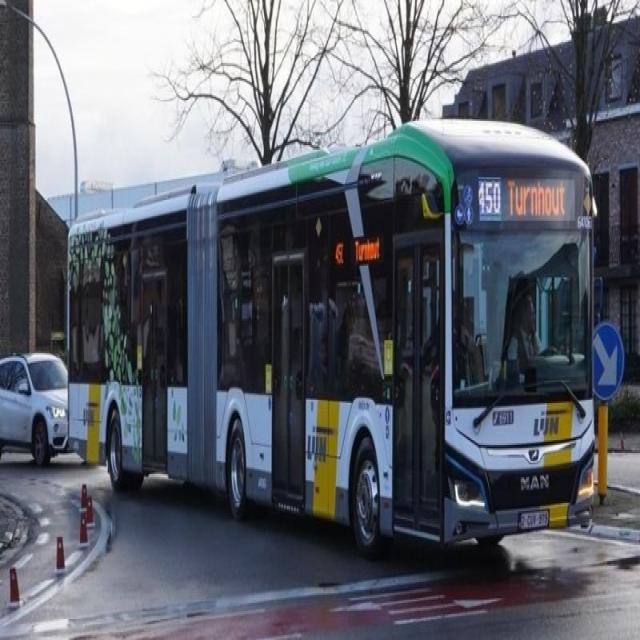bus-number: (477, 179, 501, 220)
